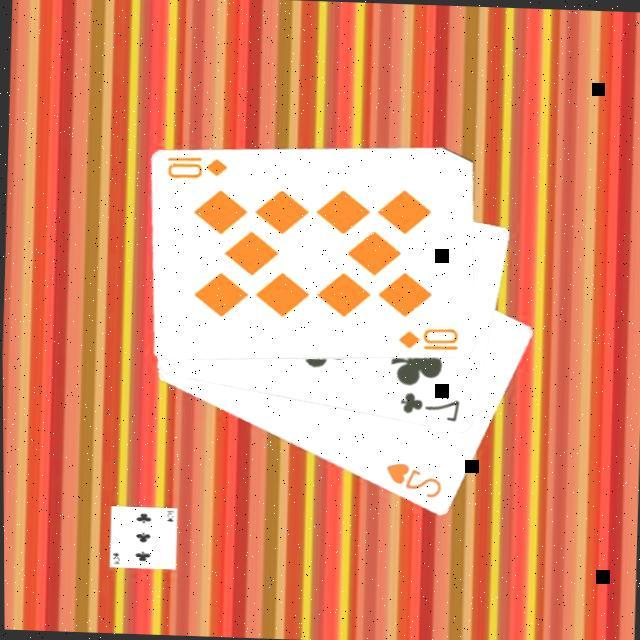10D: (160, 154, 229, 184), (392, 325, 459, 355)
2H: (379, 459, 442, 502)
7C: (393, 390, 461, 426)
